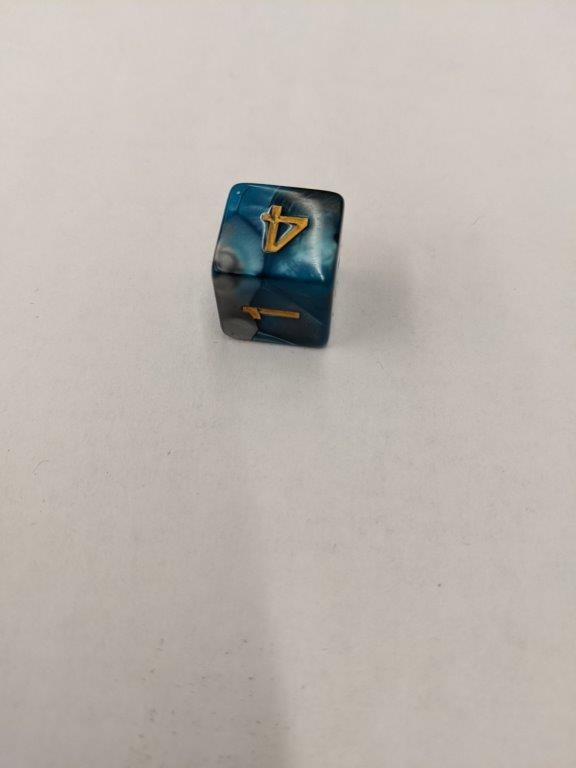d6-4: (211, 182, 346, 350)
